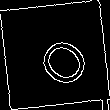O_NW: (22, 22, 88, 88)
